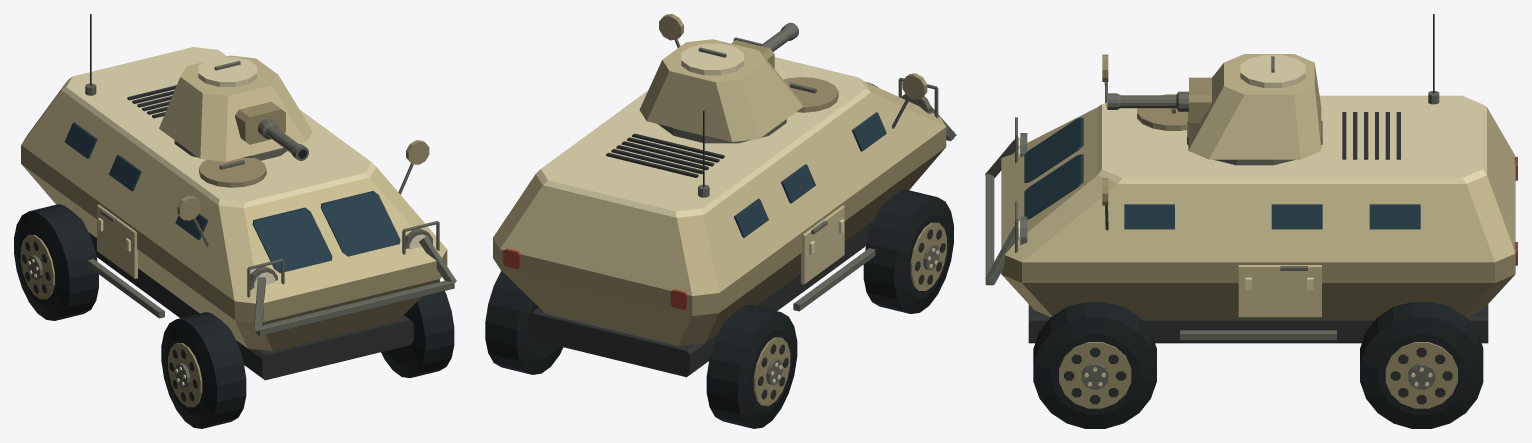
File: ArmoredCar.obj
3 views of the same model, side by side, from view 1: azimuth 30°, elevation 25°; view 2: azimuth 150°, elevation 25°; view 3: azimuth 270°, elevation 25° (orthographic). The views are drawn at different scales.
Parts seen in each view (by area): view 1: UpperHull, RoofPlate, LowerHull, TurretArmor, TyreWheelFL, TyreWheelRL, Chassis, TyreWheelFR, FrontGlass1, FrontGlass-1, FrontGuard, SideDoor-1 (+14 smaller); view 2: UpperHull, LowerHull, RoofPlate, TurretArmor, TyreWheelRL, TyreWheelFL, Chassis, TyreWheelRR, SideDoor-1, TurretHatch, RimWheelRL, RimWheelFL (+9 smaller); view 3: UpperHull, RoofPlate, LowerHull, TurretArmor, TyreWheelFR, TyreWheelRR, Chassis, SideDoor1, RimWheelRR, RimWheelFR, FrontGlass-1, FrontGlass1 (+13 smaller).
Part boxes in pixels (<box>): UpperHull: <box>21,82,447,303</box>; RoofPlate: <box>61,47,376,208</box>; LowerHull: <box>21,145,447,350</box>; TurretArmor: <box>159,55,312,161</box>; TyreWheelFL: <box>161,312,246,428</box>; TyreWheelRL: <box>14,204,98,320</box>; Chassis: <box>89,232,413,380</box>; TyreWheelFR: <box>381,280,454,377</box>; FrontGlass1: <box>320,191,400,256</box>; FrontGlass-1: <box>252,207,332,273</box>; FrontGuard: <box>256,281,454,335</box>; SideDoor-1: <box>97,204,137,278</box>; UpperHull: <box>493,81,946,295</box>; LowerHull: <box>493,127,946,346</box>; RoofPlate: <box>536,57,870,217</box>; TurretArmor: <box>639,39,803,141</box>; TyreWheelRL: <box>706,304,797,428</box>; TyreWheelFL: <box>863,189,953,313</box>; Chassis: <box>528,219,874,377</box>; TyreWheelRR: <box>485,270,563,374</box>; SideDoor-1: <box>801,205,844,284</box>; TurretHatch: <box>681,43,743,75</box>; RimWheelRL: <box>753,337,790,405</box>; RimWheelFL: <box>910,222,946,290</box>; UpperHull: <box>1001,107,1515,262</box>; RoofPlate: <box>1097,95,1486,183</box>; LowerHull: <box>1001,253,1515,319</box>; TurretArmor: <box>1188,54,1321,159</box>; TyreWheelFR: <box>1033,302,1156,428</box>; TyreWheelRR: <box>1360,302,1483,428</box>; Chassis: <box>1028,304,1488,343</box>; SideDoor1: <box>1238,265,1321,317</box>; RimWheelRR: <box>1385,342,1457,408</box>; RimWheelFR: <box>1059,342,1131,408</box>; FrontGlass-1: <box>1024,117,1083,182</box>; FrontGlass1: <box>1024,154,1083,219</box>.
Size of the model in its own units: 2.7 by 2.88 by 4.41.
